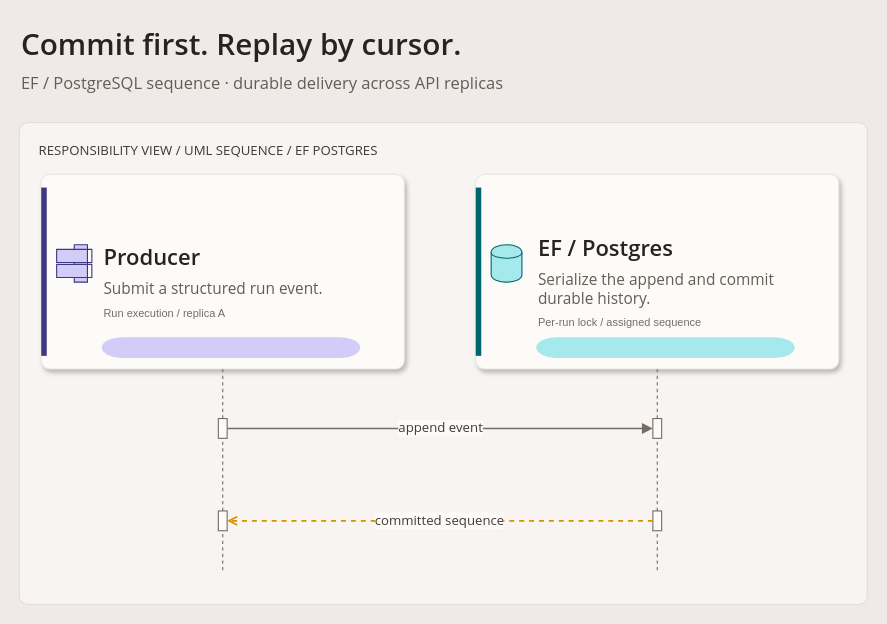
Some shapes in this 887 by 624 pixel diagram are drawn without their labels. The centre of each missing label's shape, as x and y in pixels:
CALLER: the point at 230,347
DURABLE: the point at 665,347
